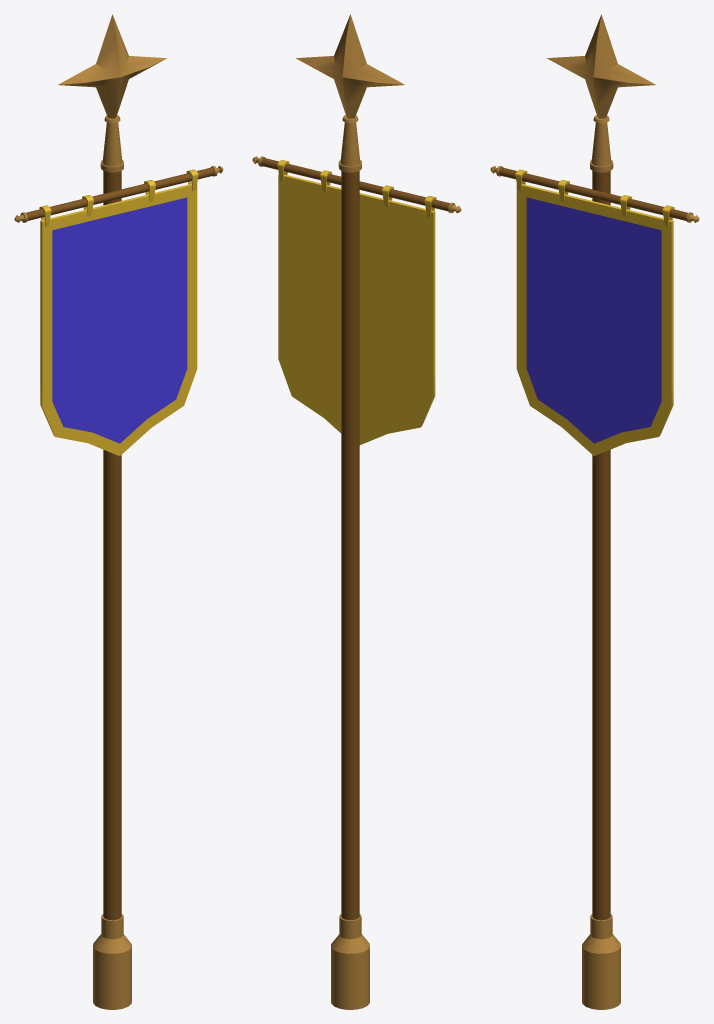
File: flagVerticle.fbx
3 views of the same model, side by side, from view 1: azimuth 30°, elevation 25°; view 2: azimuth 150°, elevation 25°; view 3: azimuth 330°, elevation 25° (orthographic).
Visible parts, largest first — view 1: Verticle Flag; view 2: Verticle Flag; view 3: Verticle Flag.
Part boxes in pixels (x1,y1,x2,y2): Verticle Flag: (14,14,223,1009); Verticle Flag: (252,14,461,1009); Verticle Flag: (490,14,699,1009).
Bounding box in the file's own units: 153 × 694 × 25.19.
